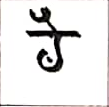ai_matra: (29, 8, 63, 30)
